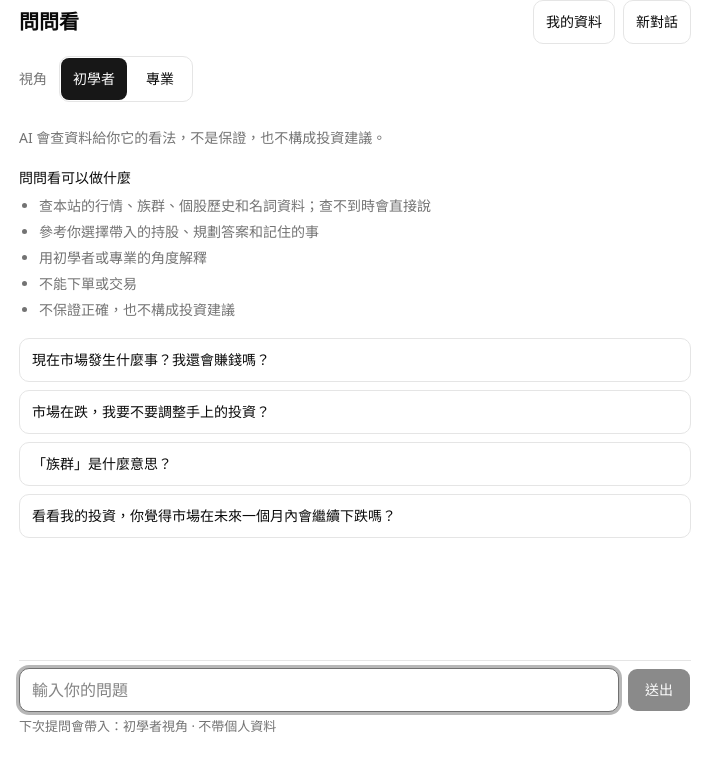
it: chat: focus order › keeps focus in the question box after sending
Type "你好" into the text box named "提問" at {"x": 319, "y": 690}, box 19,668 -> 619,712
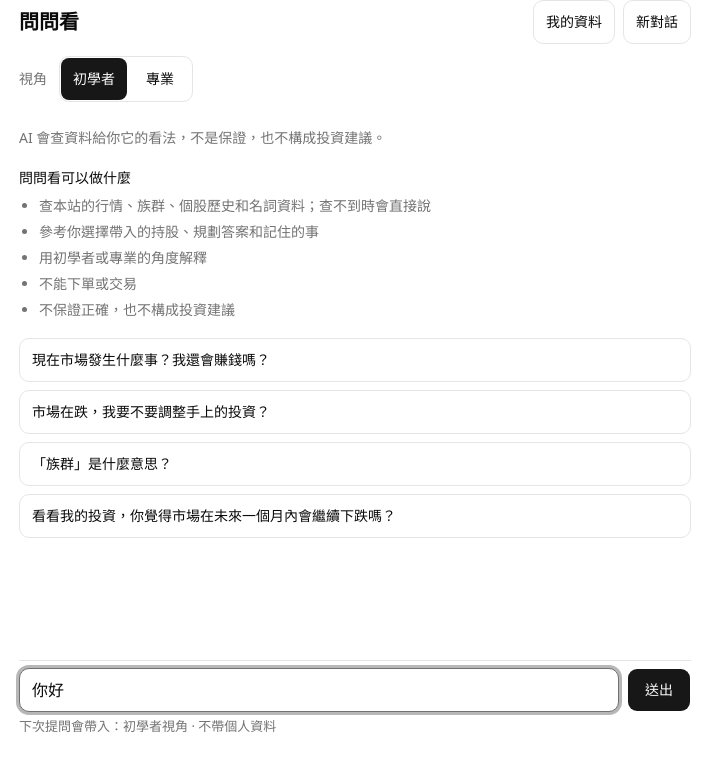
Press Enter
(page scrolled)
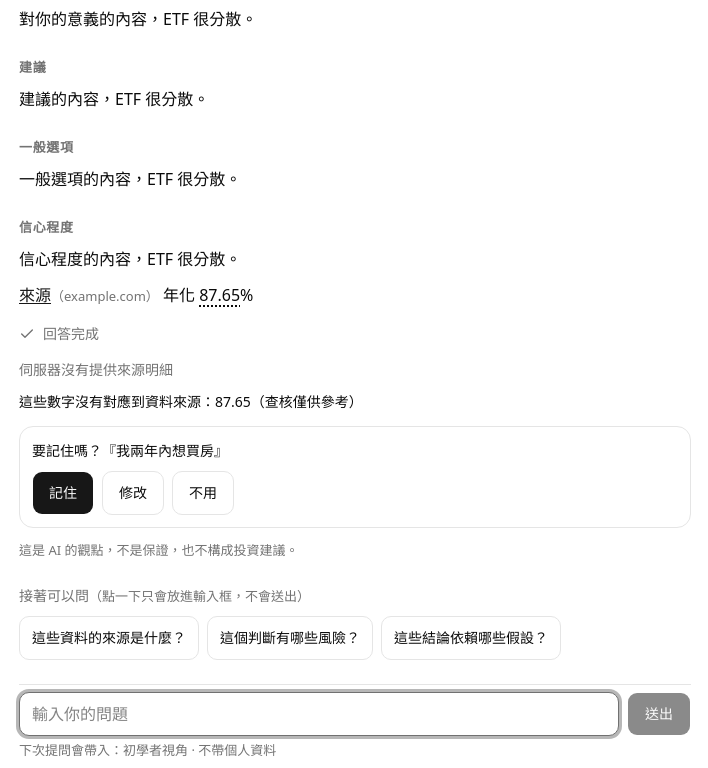
Expected: the text "這是 AI 的觀點，不是保證，也不構成投資建議。" is shown, 19,541 -> 298,559
